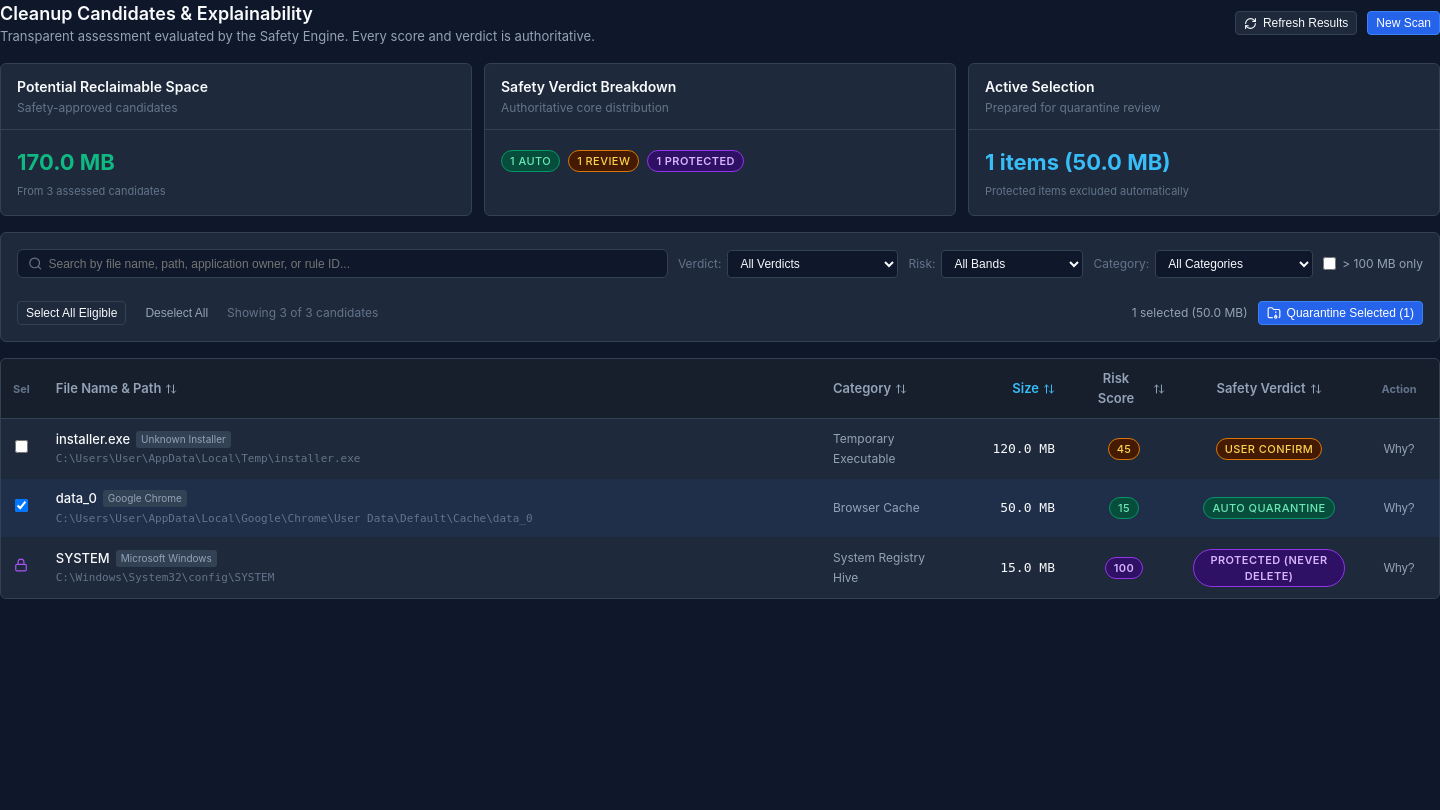
Test: M3.4: Results & Explainability Workflow › ExplainabilityDrawer for protected item explicitly shows blocked reasons without hiding reasons
Note: Click System file row
Click the text "SYSTEM": (83,558) x1=56 y1=548 x2=110 y2=568
(page scrolled)
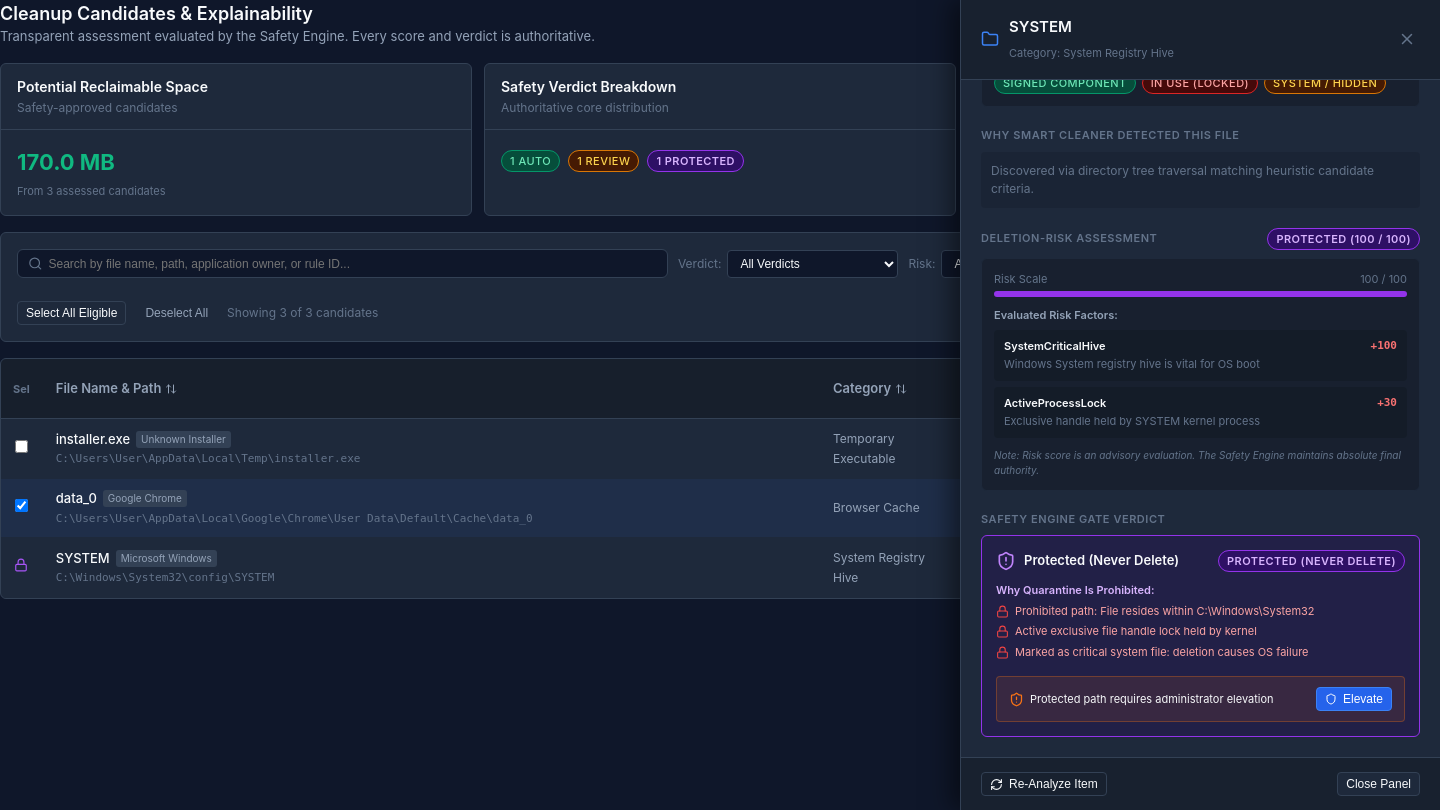
Expected: the dialog is shown, x1=960 y1=0 x2=1439 y2=809
Expected: the text "Why Quarantine Is Prohibited:" is shown, x1=996 y1=583 x2=1154 y2=597
Expected: the text "Prohibited path: File resides within C:\\Windows\\System32" is shown, x1=1015 y1=602 x2=1315 y2=619
